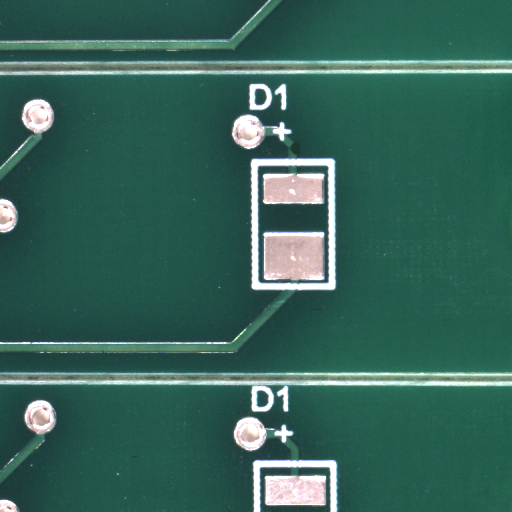Mouse_bite: (295, 148, 304, 161)
